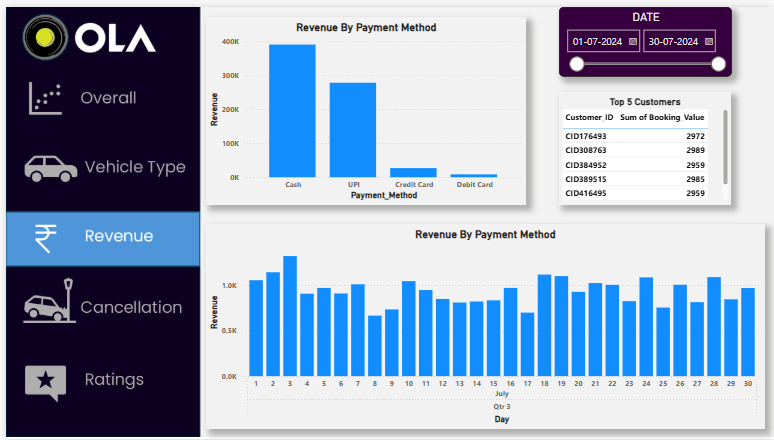

The page's visual inventory and layout, read from the dashboard file:
{"tool":"powerbi","page":{"name":"Revenue","canvas":[1280,720],"ordinal":2},"visuals":[{"type":"actionButton","box":[1.4,569.8,323.1,104.9],"z":0},{"type":"actionButton","box":[1.4,445,323.1,107.7],"z":1000},{"type":"actionButton","box":[0,211.2,323.1,109.1],"z":2000},{"type":"actionButton","box":[0,103.5,323.1,99.2],"z":3000},{"type":"columnChart","title":"Revenue By Payment Method","fields":{"Y":["Sum(Bookings-20000-Rows.Booking_Value)"],"Category":["Bookings-20000-Rows.Payment_Method"]},"box":[333.1,17,534.3,313.2],"z":4000},{"type":"columnChart","title":"Revenue By Payment Method","fields":{"Y":["Sum(Bookings-20000-Rows.Ride_Distance)"],"Category":["Bookings-20000-Rows.Date.Variation.Date Hierarchy.Quarter","Bookings-20000-Rows.Date.Variation.Date Hierarchy.Month","Bookings-20000-Rows.Date.Variation.Date Hierarchy.Day"]},"box":[333.1,361.4,931.2,341.6],"z":5000},{"type":"slicer","title":"DATE","fields":{"Values":["Bookings-20000-Rows.Date"]},"box":[921.3,0,287.7,116.2],"z":6000},{"type":"tableEx","title":"Top 5 Customers","fields":{"Values":["Bookings-20000-Rows.Customer_ID","Sum(Bookings-20000-Rows.Booking_Value)"]},"box":[922.2,141.1,287.2,188.1],"z":7000}]}

Visuals, with their boxes in screenshot pixels (x1, y1, x2, y2), scaled from the page's 1280x720 canvas onto the 774x440 screenshot:
actionButton: pyautogui.locateOnScreen(1, 348, 196, 412)
actionButton: pyautogui.locateOnScreen(1, 272, 196, 338)
actionButton: pyautogui.locateOnScreen(0, 129, 195, 196)
actionButton: pyautogui.locateOnScreen(0, 63, 195, 124)
"Revenue By Payment Method" columnChart: pyautogui.locateOnScreen(201, 10, 525, 202)
"Revenue By Payment Method" columnChart: pyautogui.locateOnScreen(201, 221, 765, 430)
"DATE" slicer: pyautogui.locateOnScreen(557, 0, 731, 71)
"Top 5 Customers" tableEx: pyautogui.locateOnScreen(558, 86, 731, 201)
